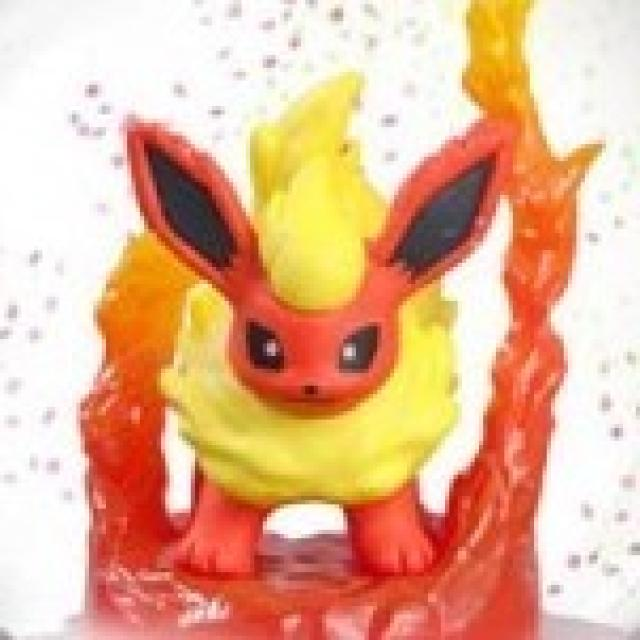Flareon: (127, 130, 503, 575)
